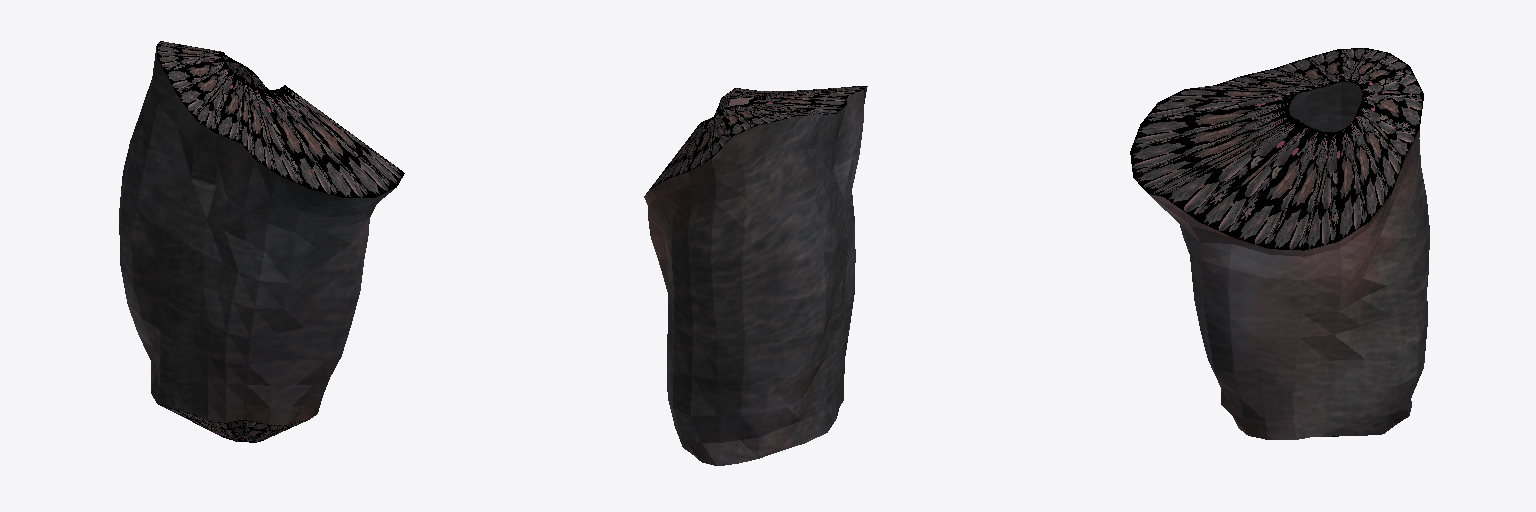
3 renders of one model, left to right at view 1: azimuth 30°, elevation 25°; view 2: azimuth 150°, elevation 25°; view 3: azimuth 270°, elevation 25°, orthographic.
Parts seen in each view (by area): view 1: Hip_L_Knee_L_Cut; view 2: Hip_L_Knee_L_Cut; view 3: Hip_L_Knee_L_Cut.
Part boxes in pixels (left/top/right/bottom): Hip_L_Knee_L_Cut: left=119, top=41, right=404, bottom=442; Hip_L_Knee_L_Cut: left=644, top=86, right=867, bottom=465; Hip_L_Knee_L_Cut: left=1130, top=48, right=1429, bottom=439.
Size of the model in its own units: 1.3 by 2.48 by 1.86.
1 materials, 1 textured.